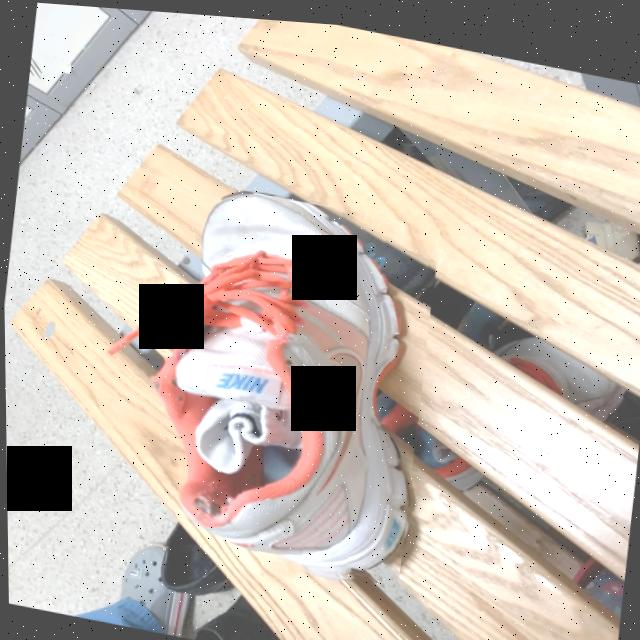shoe: (121, 187, 408, 571)
